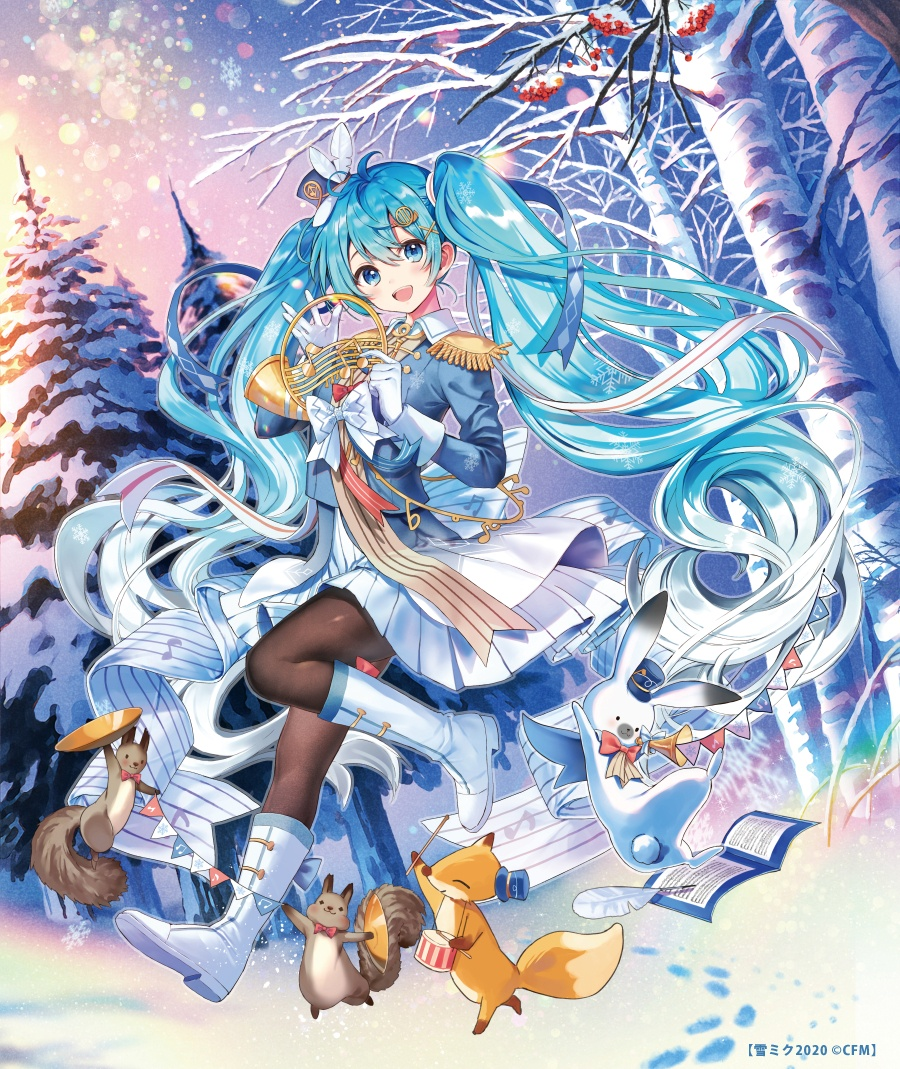纸片人正脸: (297, 160, 465, 322)
